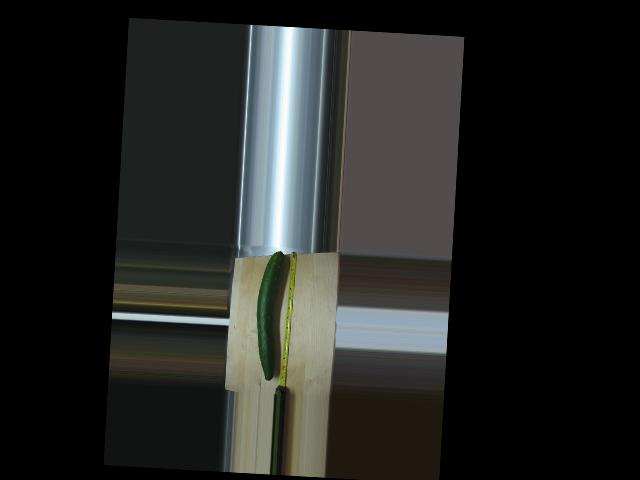cucumber: (253, 250, 285, 381)
